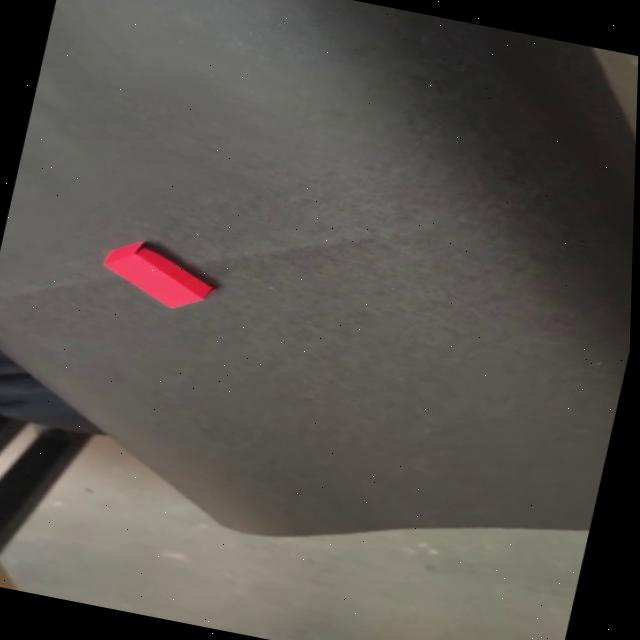red block: (96, 235, 226, 318)
